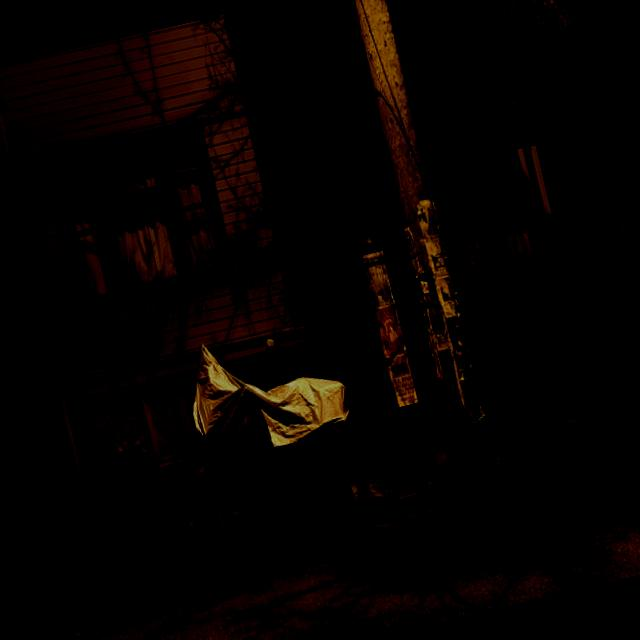Vehicle: (129, 310, 380, 572)
